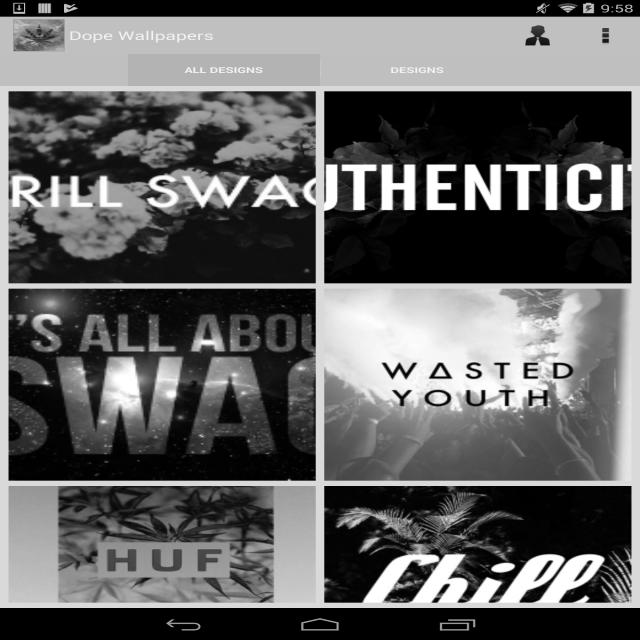ImageView: (8, 288, 316, 481), (324, 288, 632, 481), (324, 92, 632, 284), (8, 486, 316, 640), (324, 486, 632, 640), (14, 19, 64, 52)
TextView: (571, 16, 640, 54), (503, 17, 572, 54), (69, 27, 214, 43), (184, 64, 263, 76), (390, 64, 444, 76)
